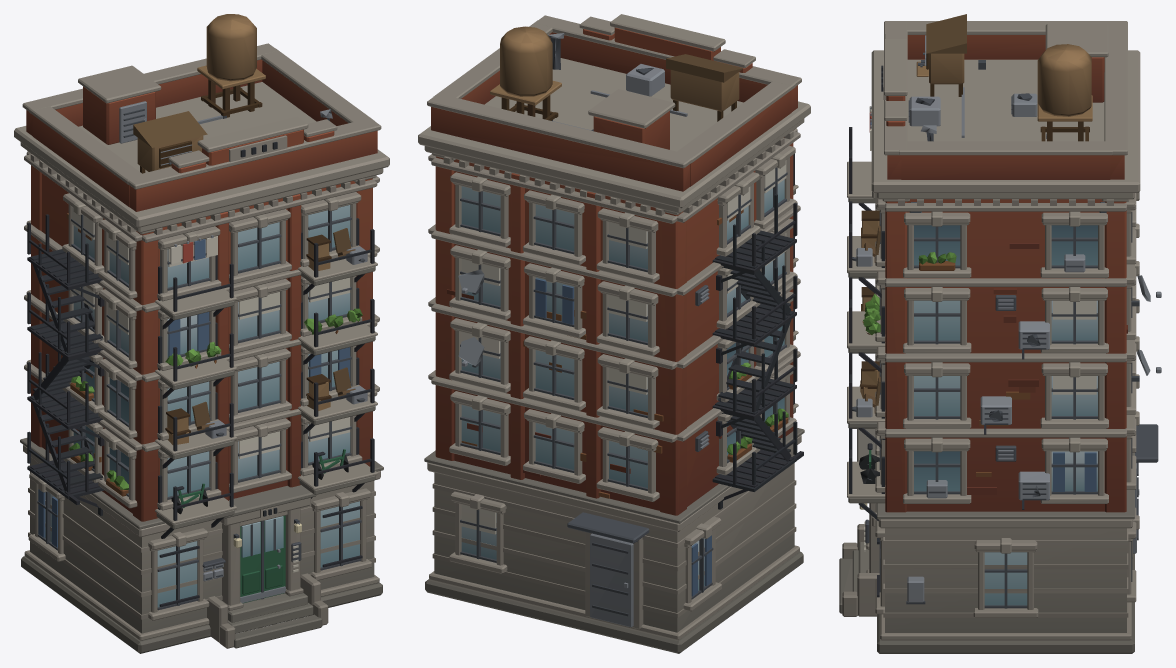
File: apartment-block-01_draco-ultra.glb
The picture shows the model from 3 angles, left to right: view 1: azimuth 30°, elevation 25°; view 2: azimuth 150°, elevation 25°; view 3: azimuth 270°, elevation 25°; orthographic projection. The views are drawn at different scales.
Parts seen in each view (by area): view 1: apartment_block_01; view 2: apartment_block_01; view 3: apartment_block_01.
Boxes of the visible parts, x1,y1,x2,y2 form: apartment_block_01: [14, 14, 389, 653]; apartment_block_01: [418, 14, 810, 653]; apartment_block_01: [839, 14, 1161, 653].
Size of the model in its own units: 7.63 by 13.27 by 6.79.
